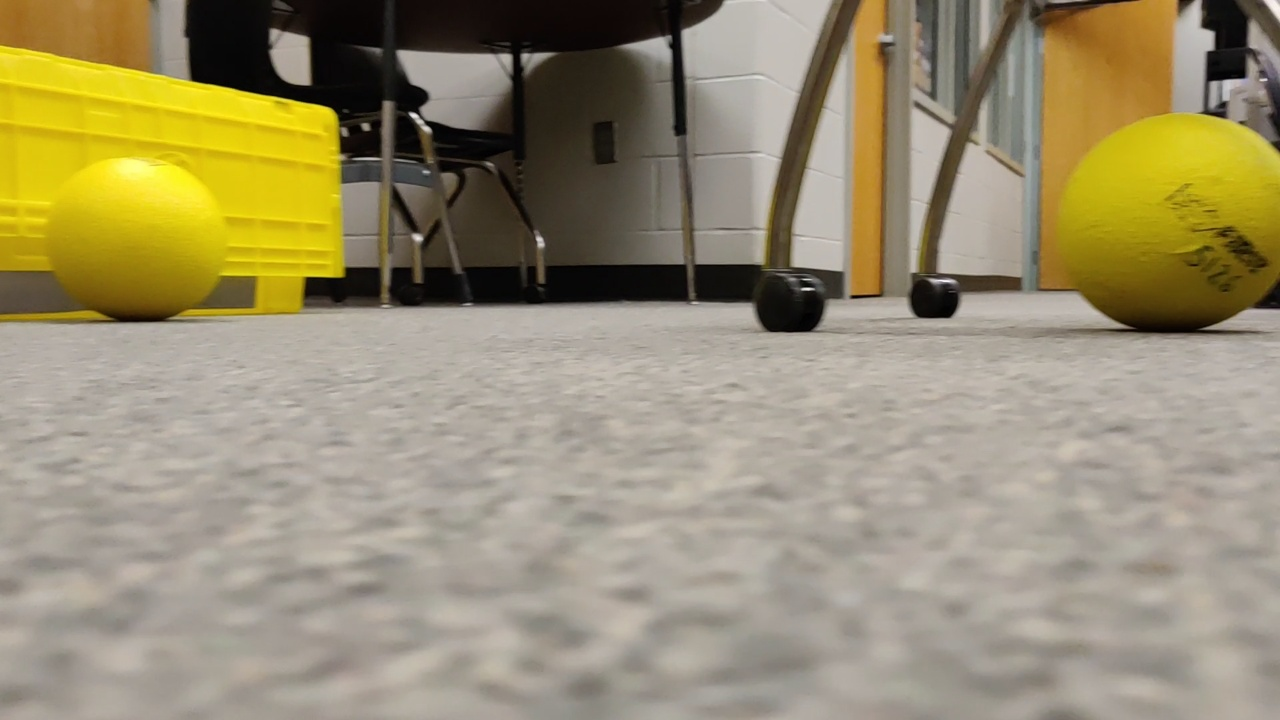Ball: (1053, 109, 1280, 332), (48, 154, 238, 319)
